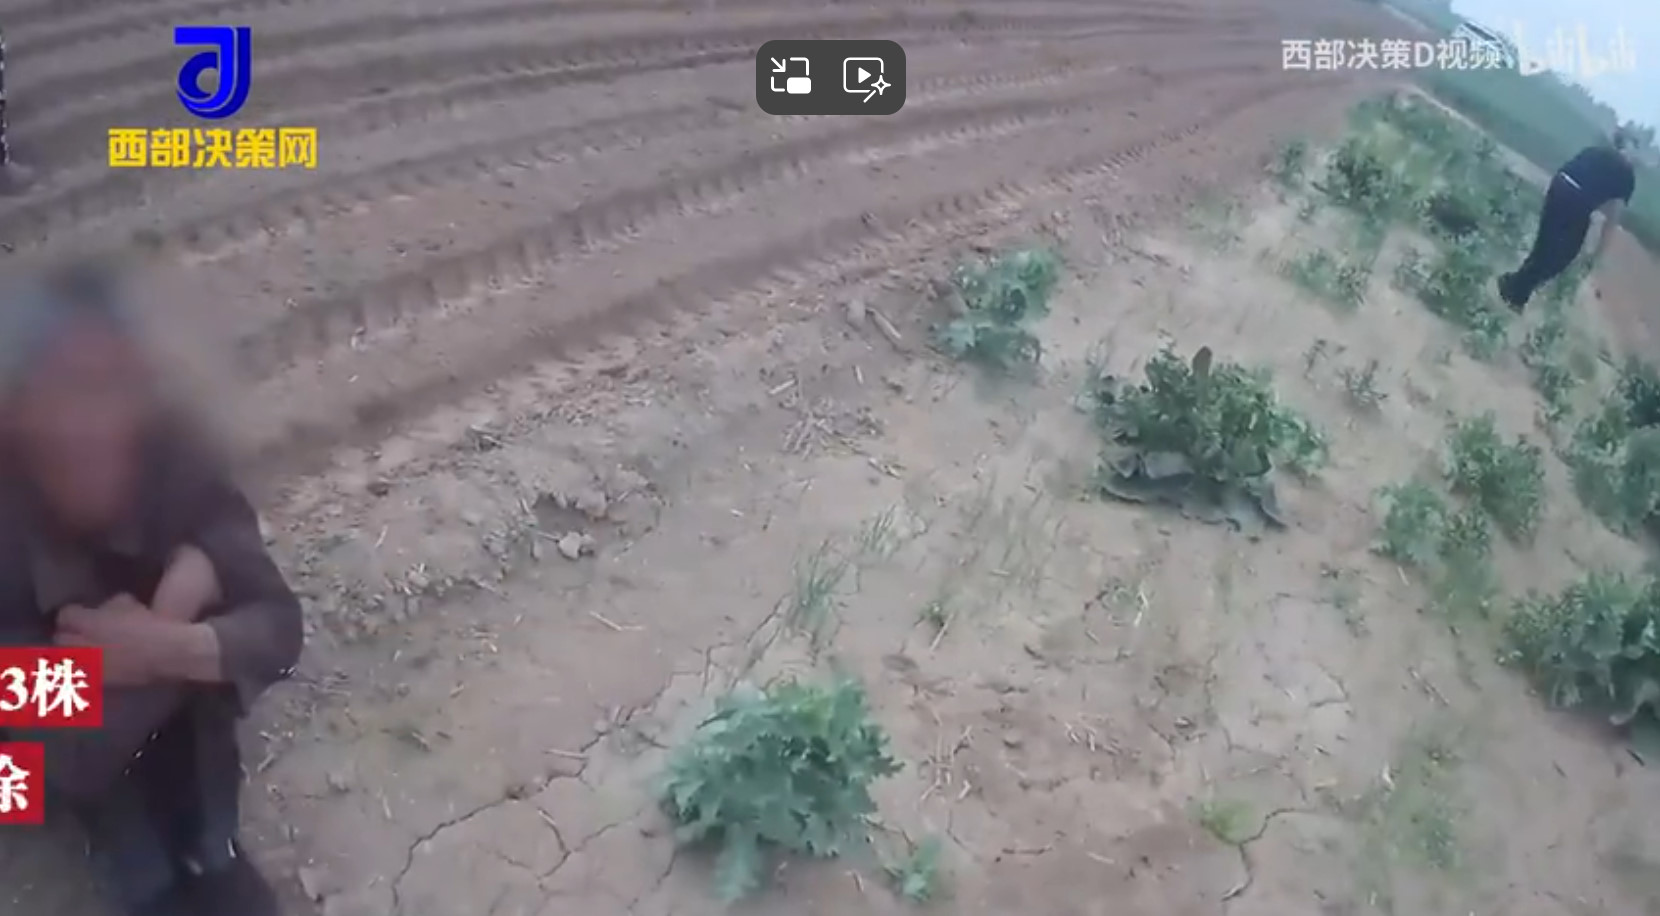Poppy: (644, 658, 947, 905), (1281, 93, 1531, 340), (1086, 340, 1333, 525), (1501, 560, 1660, 758), (921, 230, 1068, 373), (1561, 349, 1660, 522), (1434, 405, 1559, 529), (1362, 469, 1494, 582), (1542, 255, 1605, 336)
